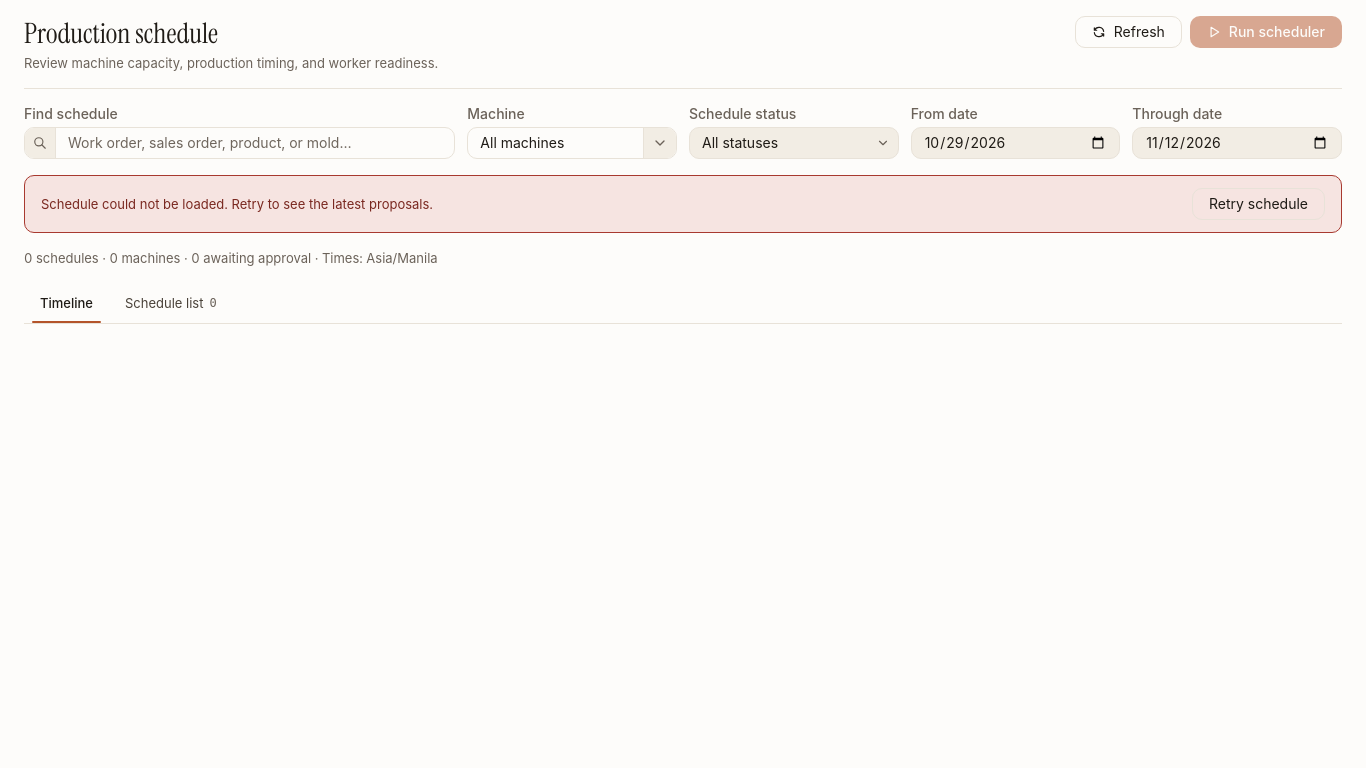
Test case: ProductionSchedulePage › offers retry after a snapshot read fails
The width and height of the screenshot is (1366, 768).
Expected: the message shows "Schedule could not be loaded", [41, 196, 433, 212]
Click the button "Retry schedule" at (1258, 204), box [1192, 188, 1325, 220]
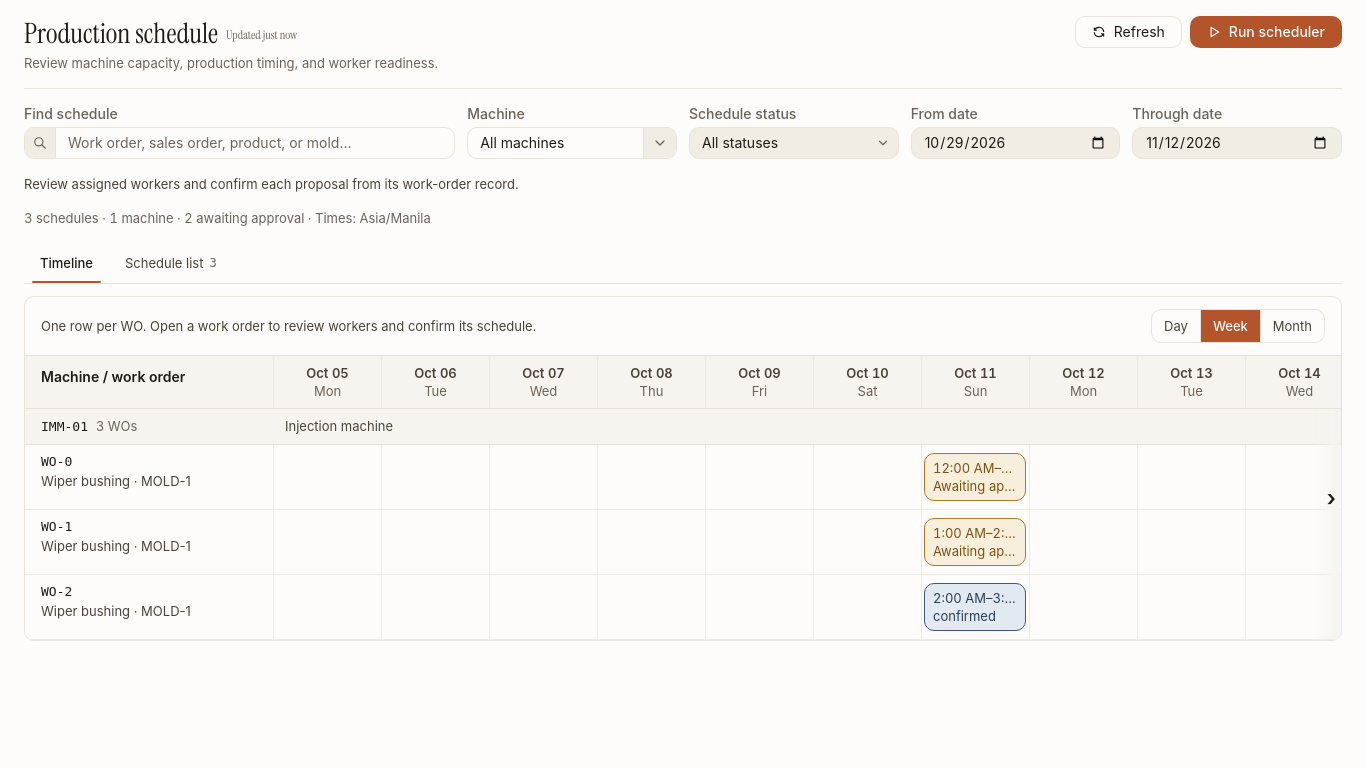
Result: the message "Schedule could not be loaded. Retry to see the latest proposals. Retry schedule" is gone
